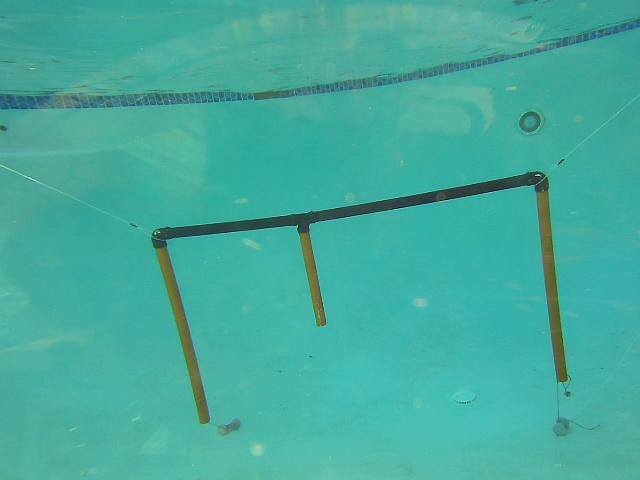Gate: (154, 240, 214, 429), (532, 187, 568, 384), (296, 226, 328, 328)
